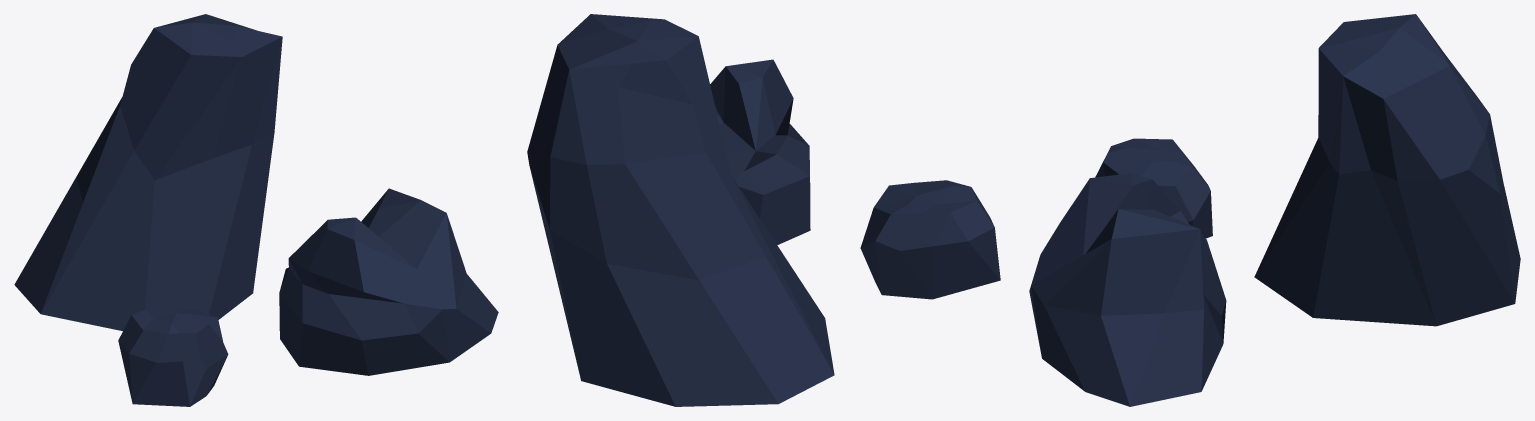
Rendered from Piedra Chica.fbx.
The picture shows the model from 3 angles, left to right: view 1: azimuth 30°, elevation 25°; view 2: azimuth 150°, elevation 25°; view 3: azimuth 270°, elevation 25°; orthographic projection. The views are drawn at different scales.
Parts seen in each view (by area): view 1: Piedra Mediana Chica; view 2: Piedra Mediana Chica; view 3: Piedra Mediana Chica.
Boxes of the visible parts, box(x1,y1,x2,y2) form: Piedra Mediana Chica: box(14, 14, 498, 406); Piedra Mediana Chica: box(527, 14, 1000, 406); Piedra Mediana Chica: box(1029, 14, 1520, 406).
Size of the model in its own units: 618 by 635 by 402.
Materials: 1 (1 with a texture image).
